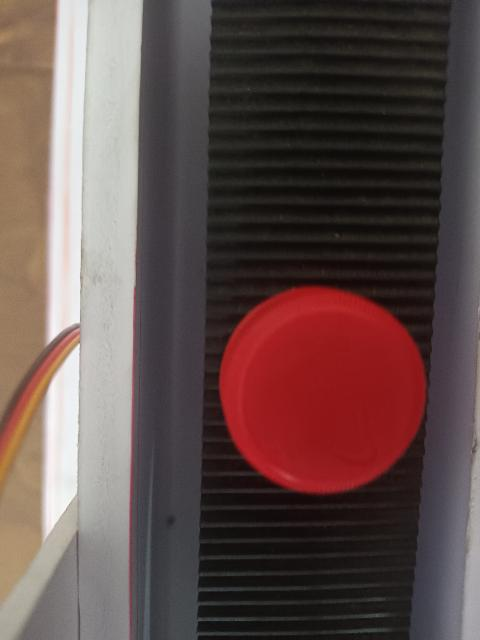bottlecap: (221, 282, 428, 498)
